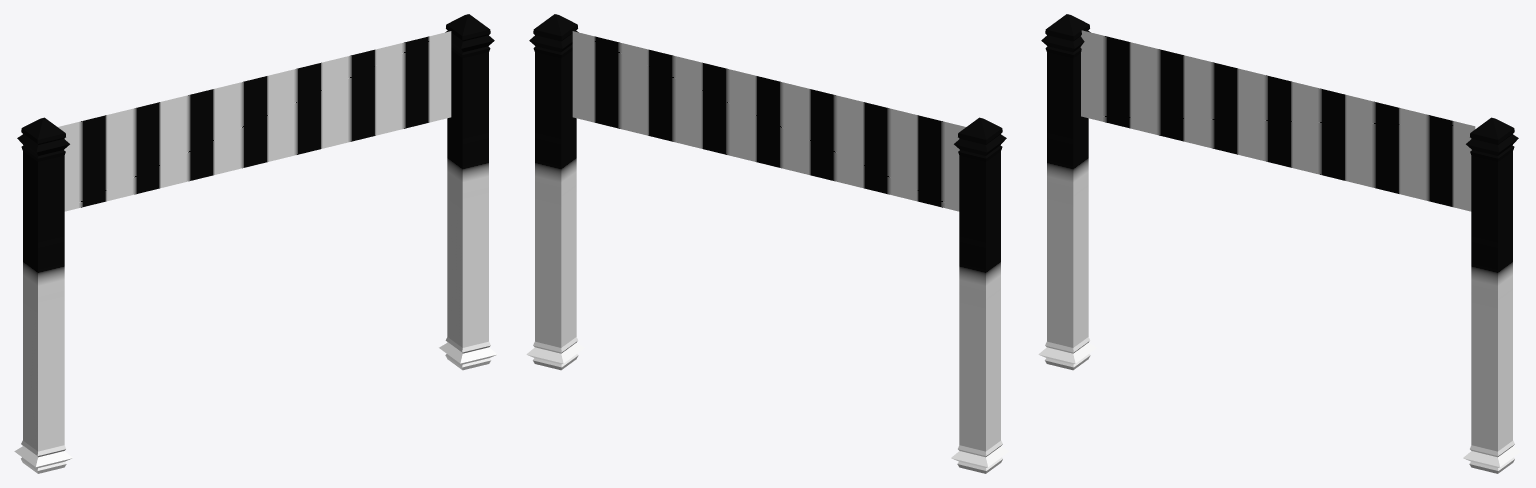
The model's file is Bayrak.fbx.
3 renders of one model, left to right at view 1: azimuth 30°, elevation 25°; view 2: azimuth 150°, elevation 25°; view 3: azimuth 330°, elevation 25°, orthographic.
Visible parts, largest first — view 1: flag; view 2: flag; view 3: flag.
Part boxes in pixels (left/top/right/bottom): flag: left=14, top=14, right=497, bottom=473; flag: left=526, top=14, right=1009, bottom=473; flag: left=1038, top=14, right=1521, bottom=473.
Bounding box in the file's own units: 721 × 516 × 58.43.
